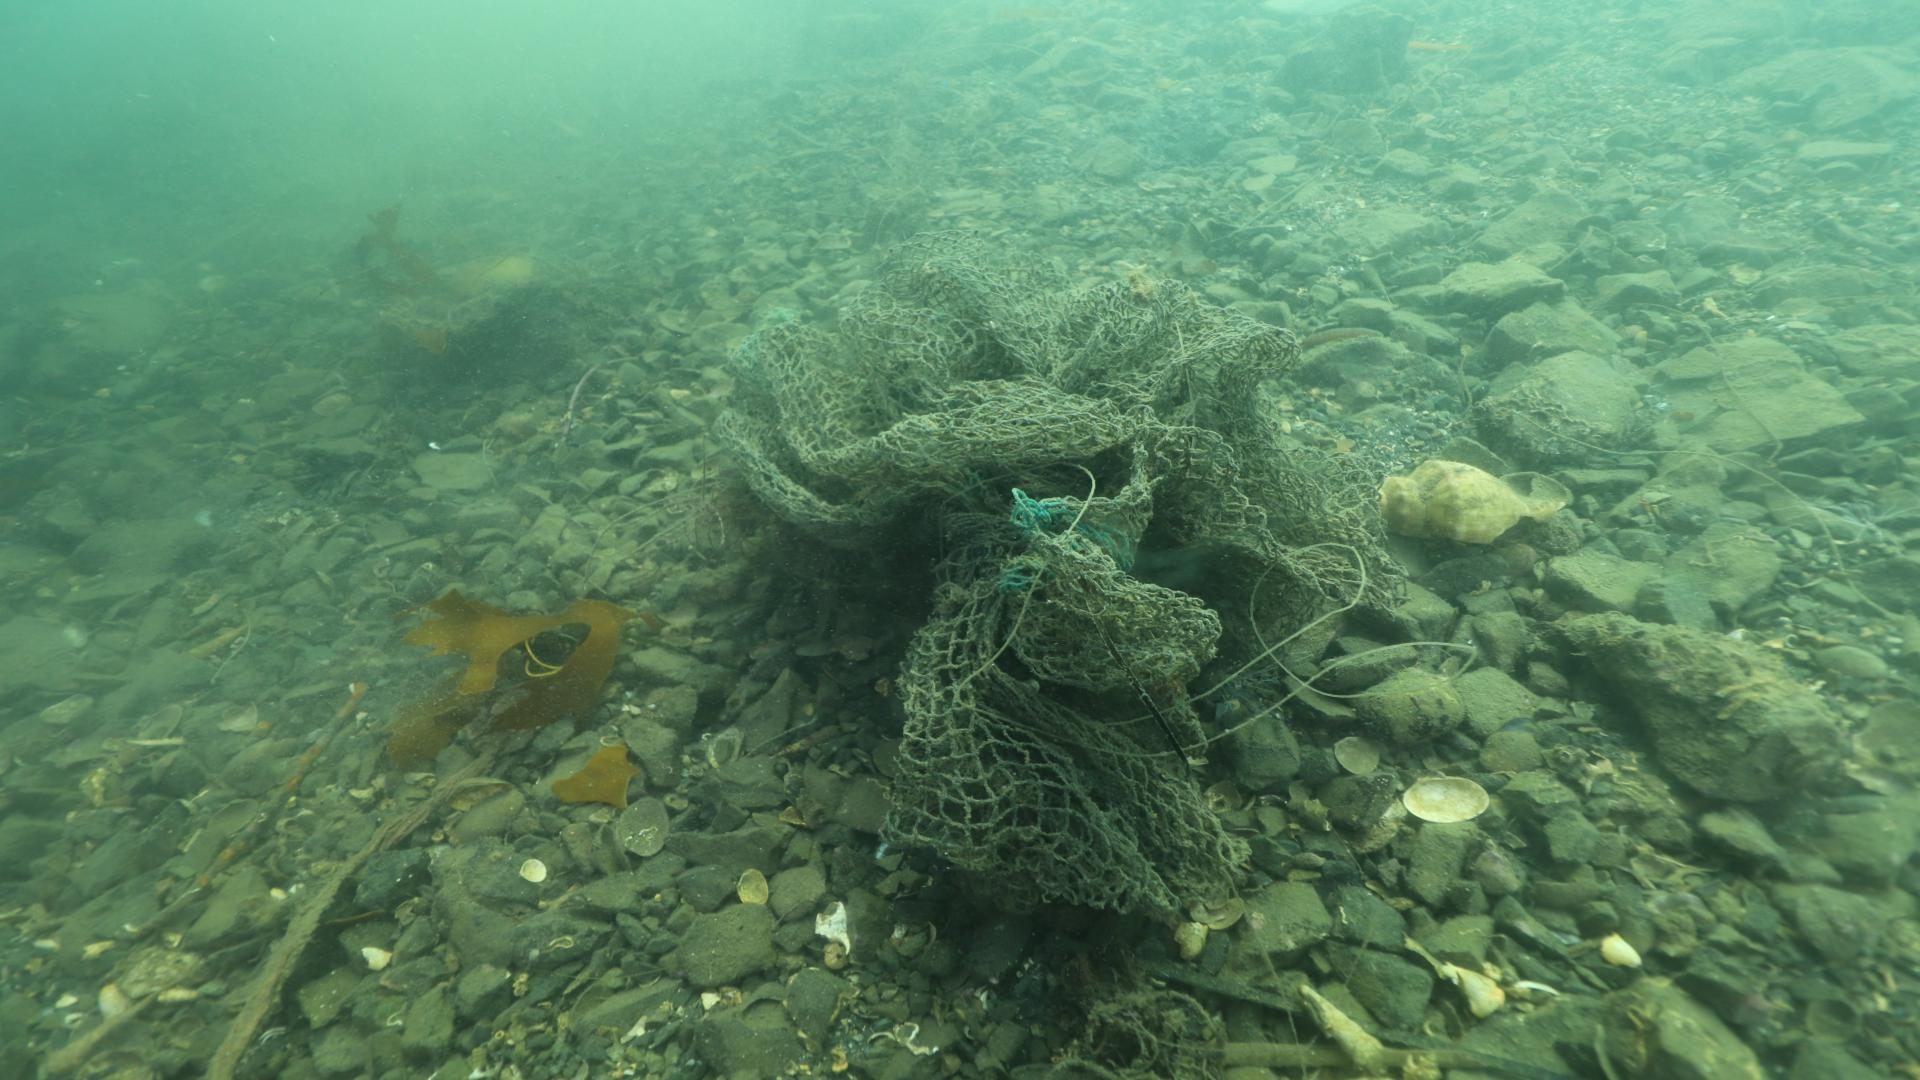fish net: (713, 227, 1412, 913)
